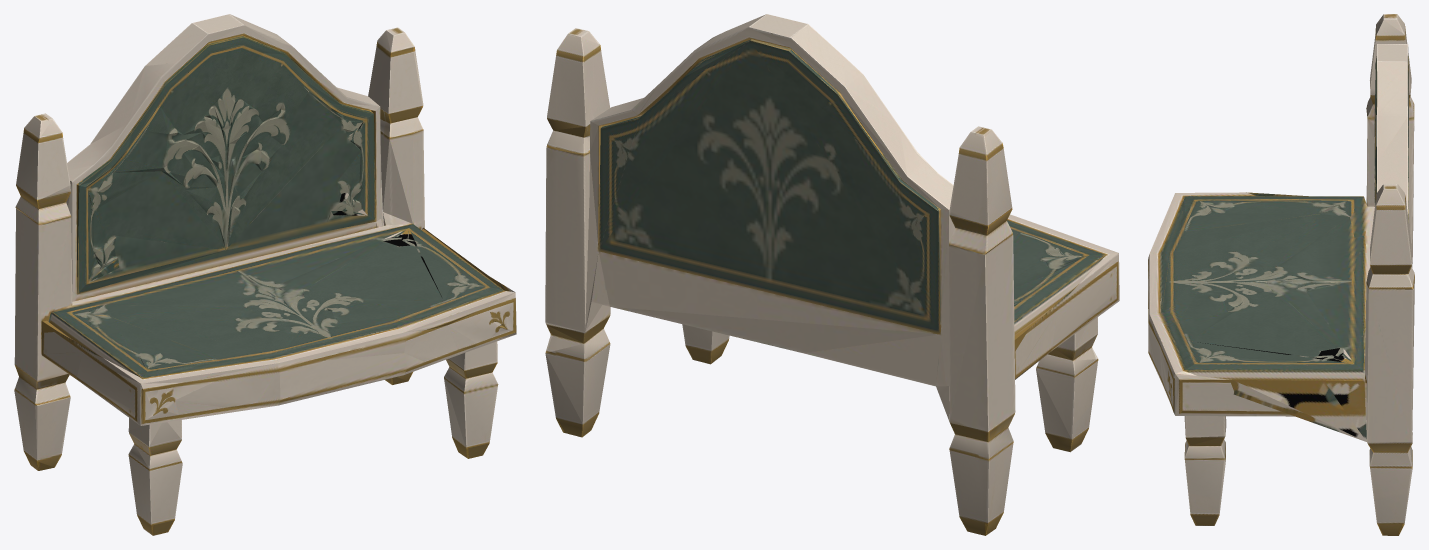
The model's file is item11.glb.
3 renders of one model, left to right at view 1: azimuth 30°, elevation 25°; view 2: azimuth 150°, elevation 25°; view 3: azimuth 270°, elevation 25°, orthographic. The views are drawn at different scales.
Visible parts, largest first — view 1: output_unwrapped; view 2: output_unwrapped; view 3: output_unwrapped.
Boxes of the visible parts, <box> form: output_unwrapped: <box>14,14,516,535</box>; output_unwrapped: <box>545,14,1119,535</box>; output_unwrapped: <box>1148,14,1414,535</box>.
Bounding box in the file's own units: 1 × 0.9811 × 0.6021.
1 material, 1 textured.
